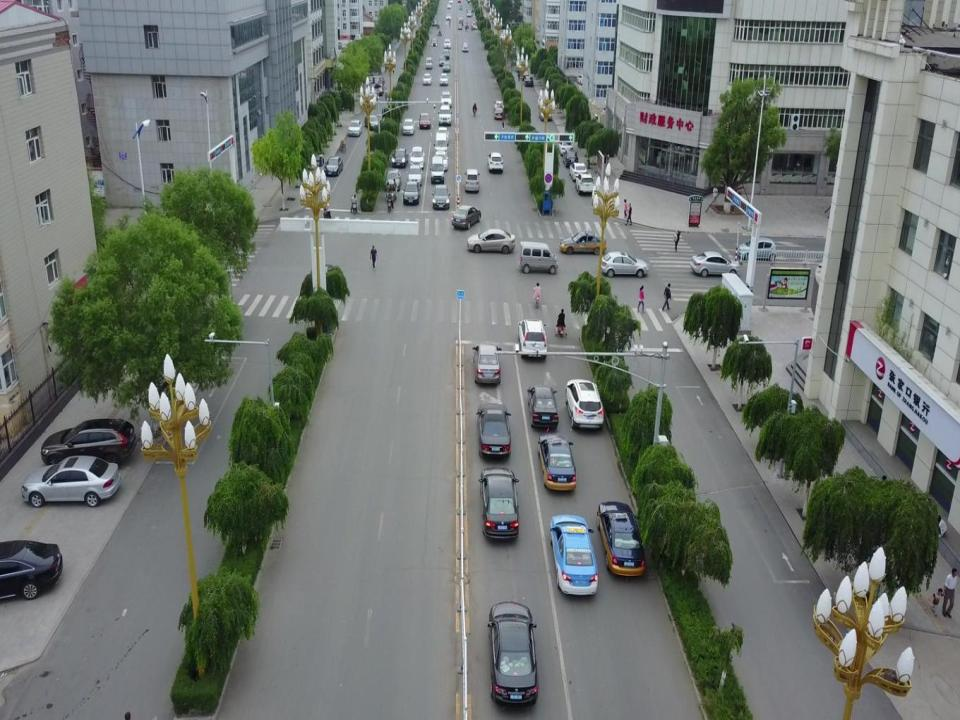car: (487, 603, 538, 703), (19, 460, 121, 509), (40, 421, 136, 467), (548, 514, 600, 598), (0, 537, 61, 606), (595, 502, 646, 578), (480, 468, 519, 542), (535, 436, 577, 493), (565, 376, 603, 433), (478, 401, 512, 461), (465, 226, 515, 254), (598, 251, 647, 278), (690, 252, 739, 279), (734, 234, 778, 264), (528, 388, 558, 430), (518, 318, 548, 358), (558, 232, 608, 254), (474, 343, 500, 384), (452, 205, 480, 232), (430, 185, 450, 209), (403, 183, 421, 206), (386, 168, 401, 192), (487, 153, 504, 173), (406, 165, 422, 185), (392, 148, 408, 168), (409, 146, 424, 167), (434, 150, 448, 171), (436, 127, 449, 146), (439, 106, 451, 126), (419, 112, 430, 130), (402, 118, 414, 134)
van: (519, 243, 559, 275), (464, 168, 480, 194), (433, 133, 447, 157), (431, 157, 444, 182)
